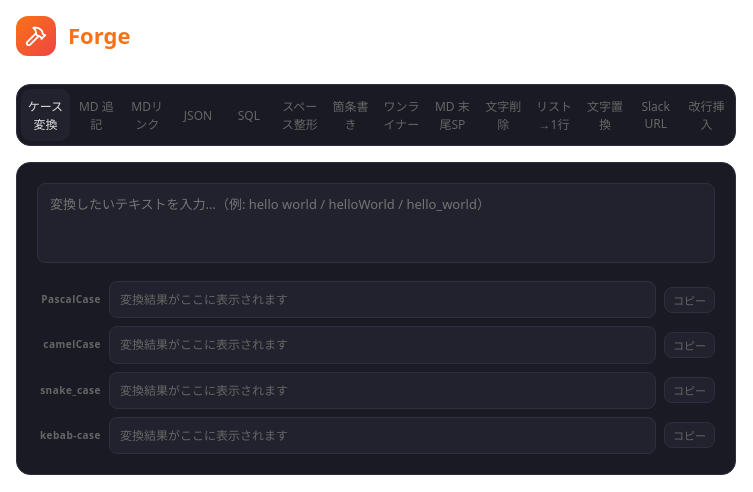
Test: ケース変換 › 入力テキストが各ケースにリアルタイム変換される
The image size is (753, 492).
In the text box named "ケース変換入力": (376, 223) [37,183,715,263], type "hello world"
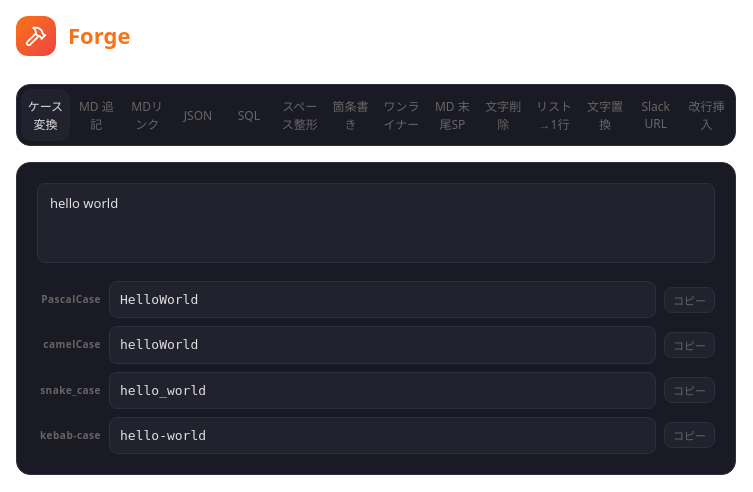
Result: the text "HelloWorld" is shown at [109,281,656,318]
Result: the text "helloWorld" is shown at [109,326,656,364]
Result: the text "hello_world" is shown at [109,372,656,409]
